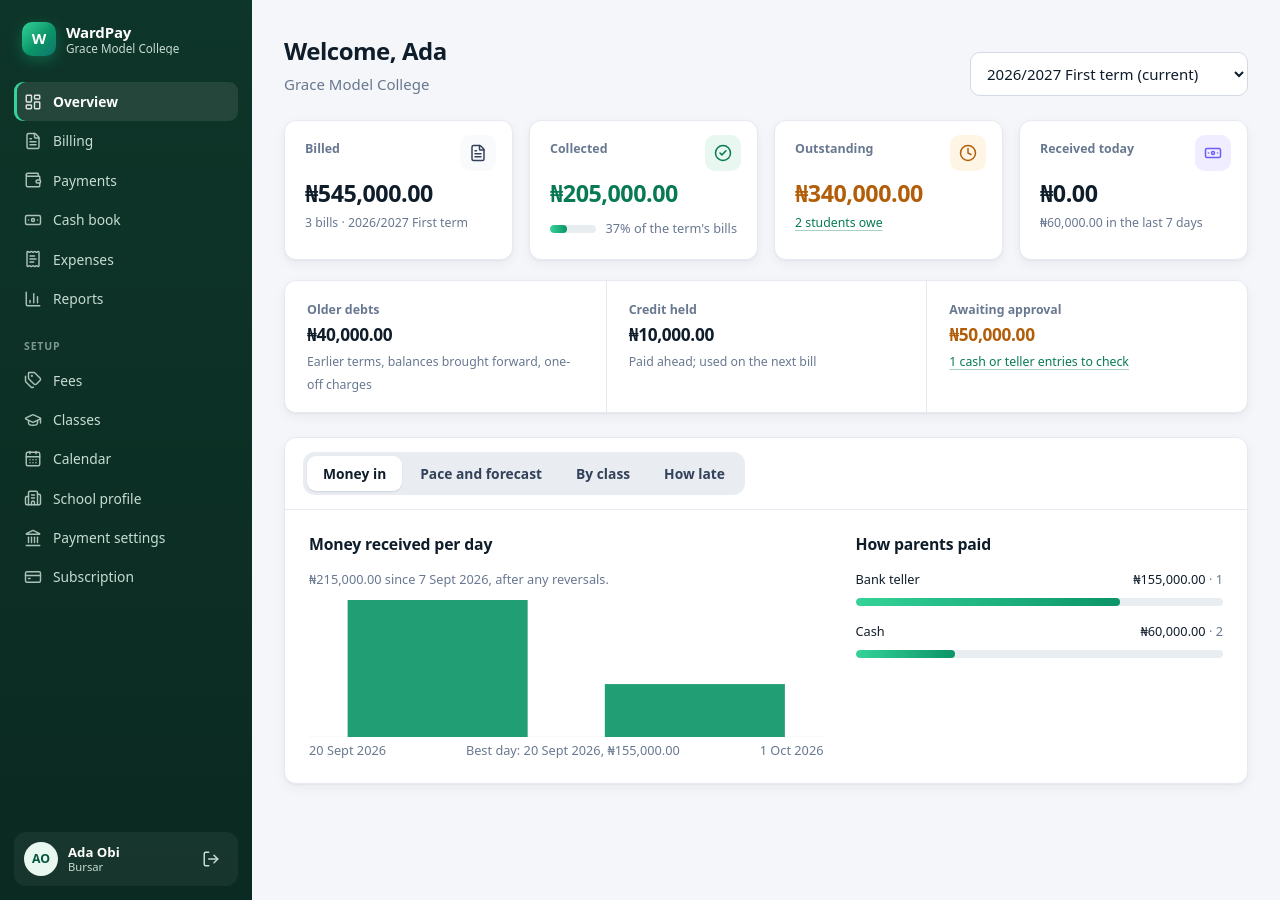
Scenario: dashboard and reports › shows the term at a glance
Expected: the text "₦545,000.00" is shown, [305,177,433,209]
Expected: the text "37% of the term's bills" is shown, [606,220,737,239]
Click the tab "By class".
click(603, 473)  # box [560,456,646,491]
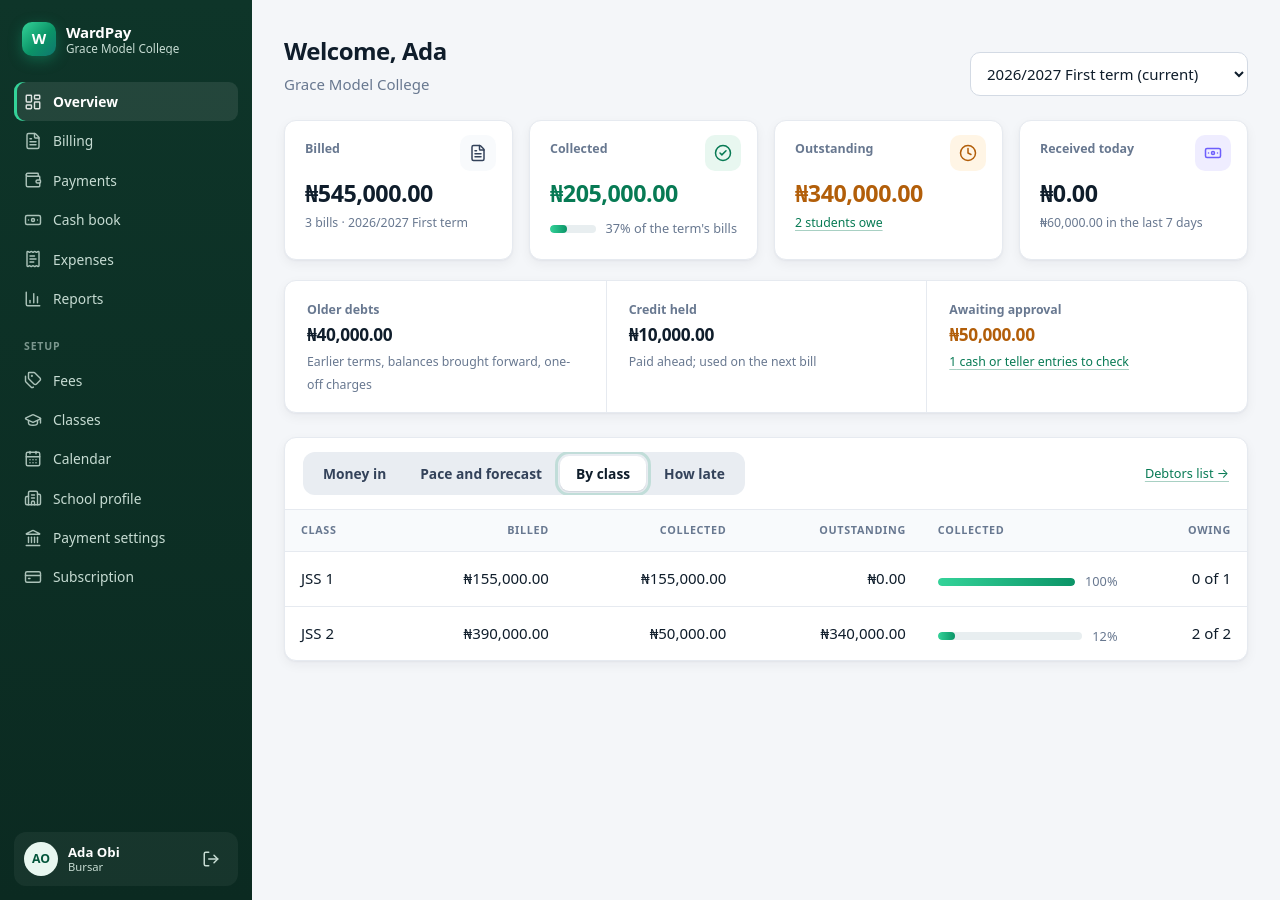
Expected: the text "2 of 2" is shown, [1134,606,1247,660]
Click the tab "How late".
click(695, 473)  # box [648,456,741,491]
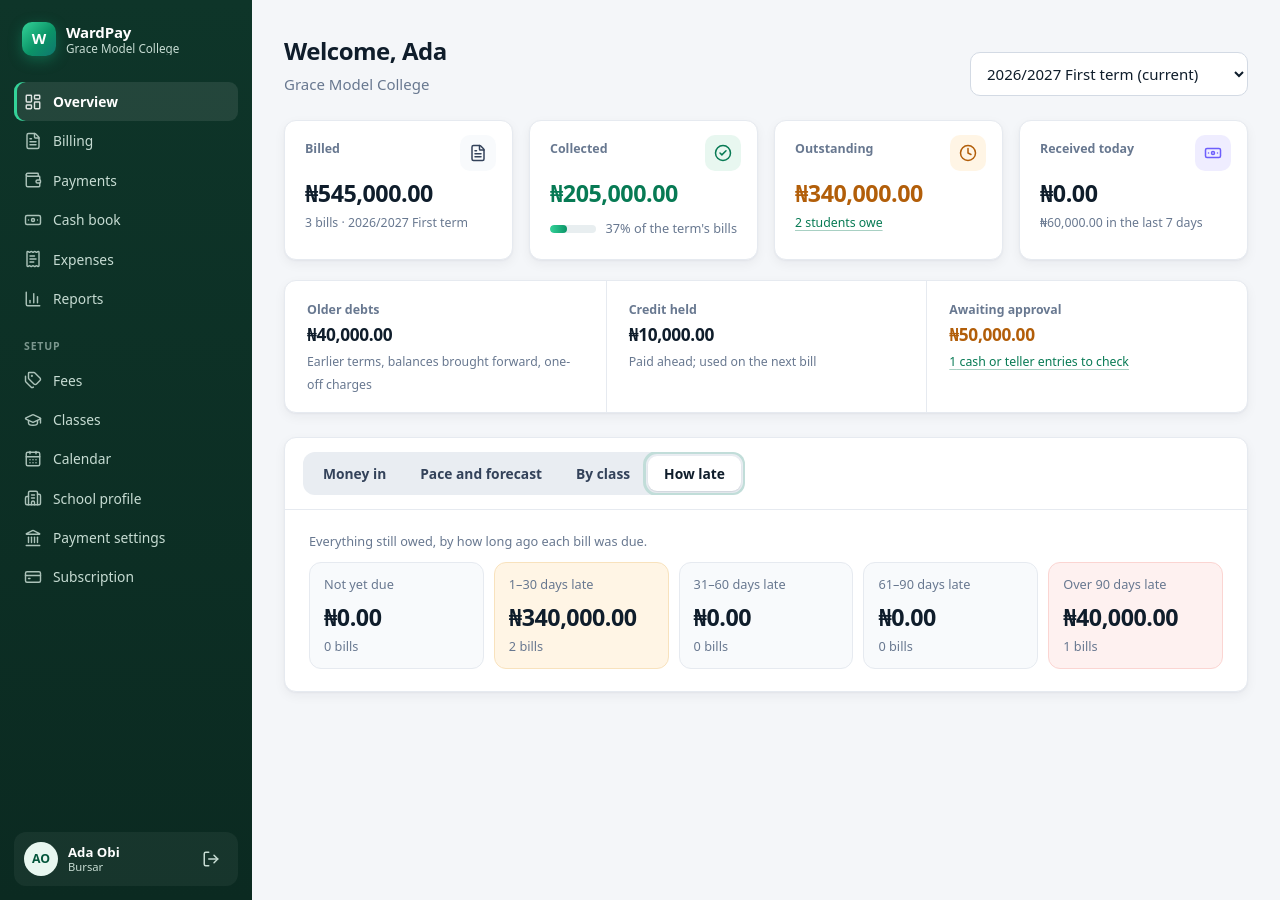
Expected: the text "Over 90 days late" is shown, [1063,575,1166,593]
